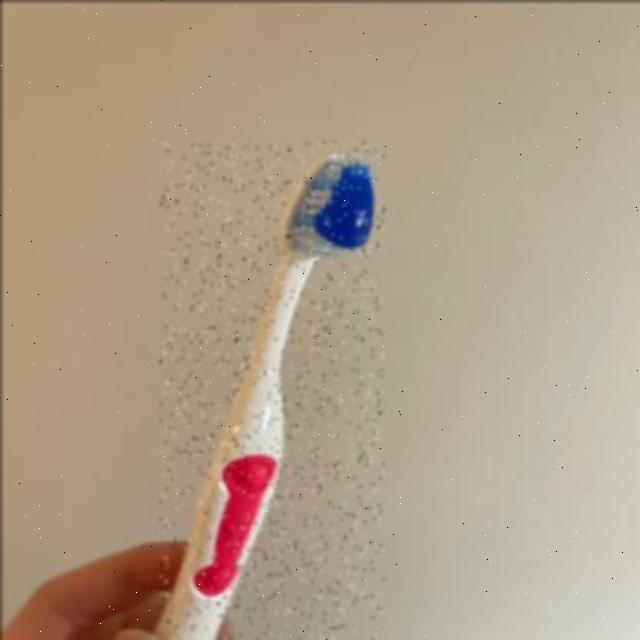toothbrush: (159, 140, 383, 640)
